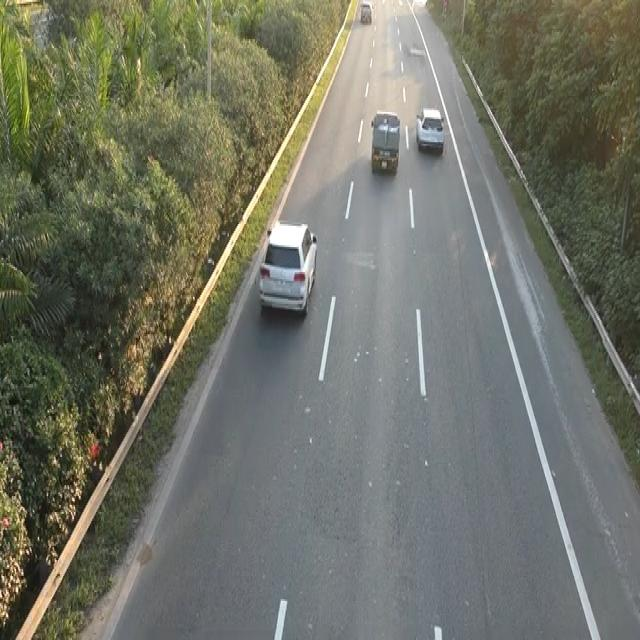car: (255, 217, 321, 323), (414, 103, 445, 153)
minivan: (369, 107, 401, 174)
